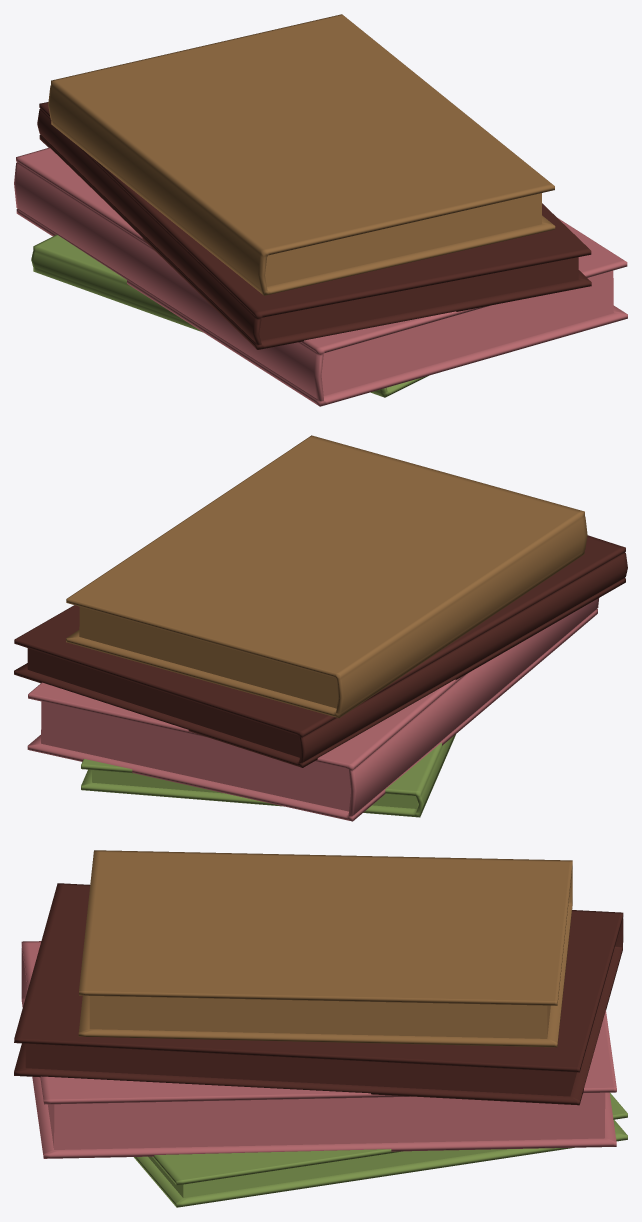
The model's file is books.glb.
3 renders of one model, top to bottom at view 1: azimuth 30°, elevation 25°; view 2: azimuth 150°, elevation 25°; view 3: azimuth 270°, elevation 25°, orthographic. The views are drawn at different scales.
Parts seen in each view (by area): view 1: Cube.010; view 2: Cube.010; view 3: Cube.010.
Boxes of the visible parts, box(x1,y1,x2,y2) form: Cube.010: box(14, 14, 627, 406); Cube.010: box(14, 435, 627, 821); Cube.010: box(14, 850, 627, 1207).
Size of the model in its own units: 0.2106 by 0.0759 by 0.2556.
